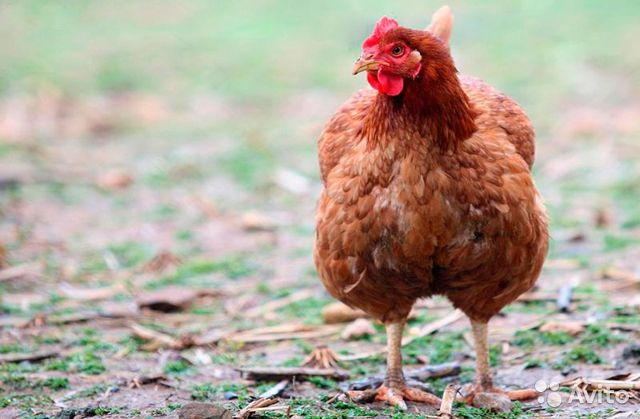chicken: (310, 2, 552, 419)
